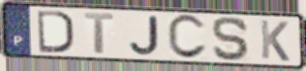C: (166, 13, 209, 62)
D: (35, 8, 76, 55)
J: (127, 14, 161, 57)
K: (259, 18, 292, 63)
S: (211, 15, 253, 63)
T: (83, 12, 117, 55)
